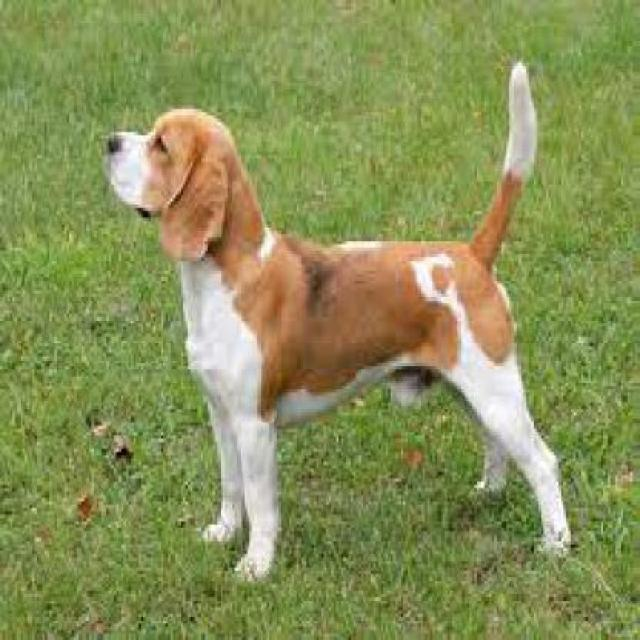Dog: (100, 62, 583, 596)
